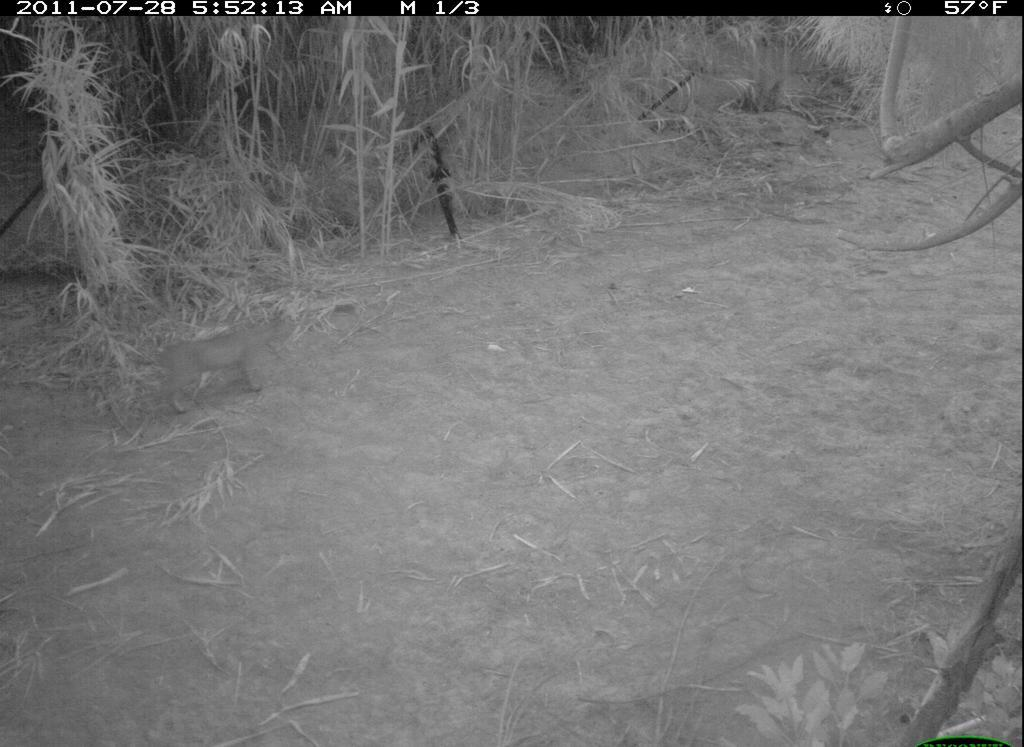bobcat: (135, 301, 305, 420)
